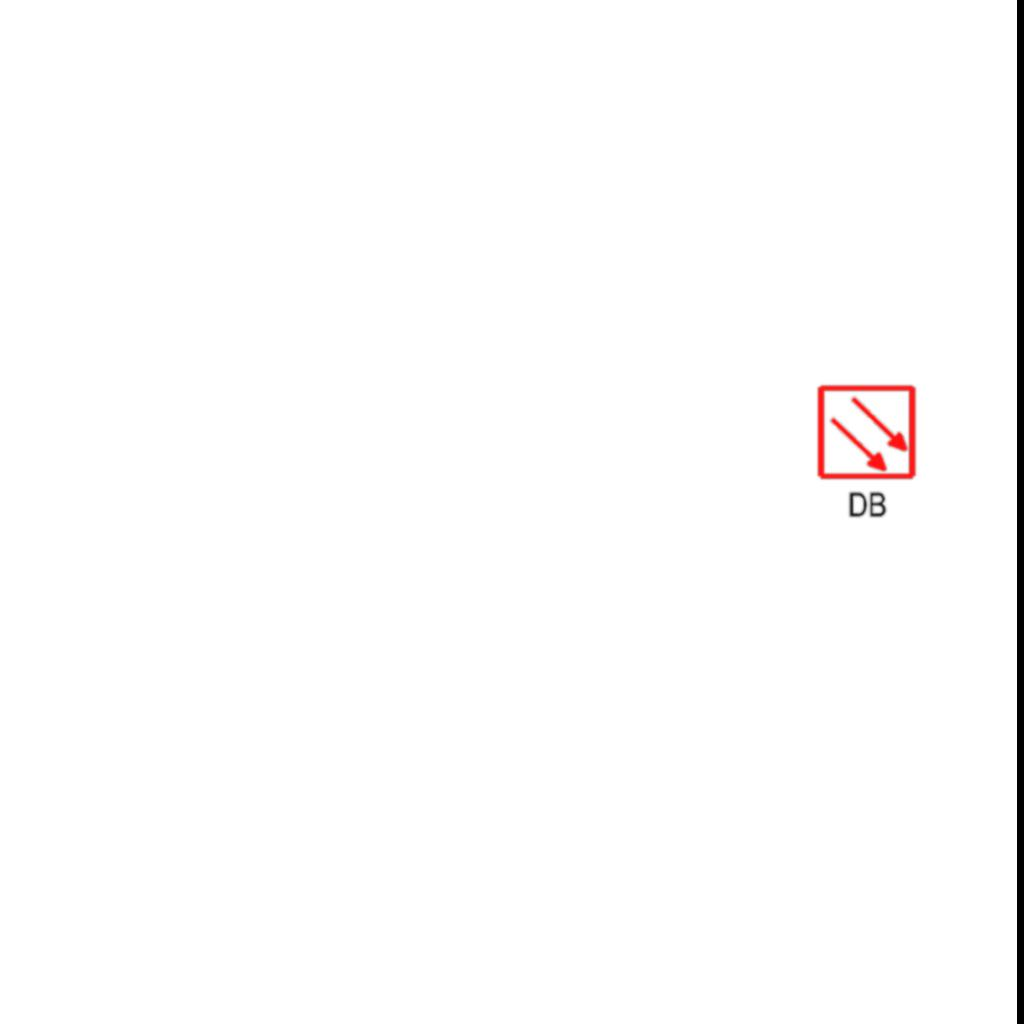DB_Melder_in_Doppelboden_mit_Revisionsoeffnung_mind_40_x_40_cm: (811, 378, 925, 527)
